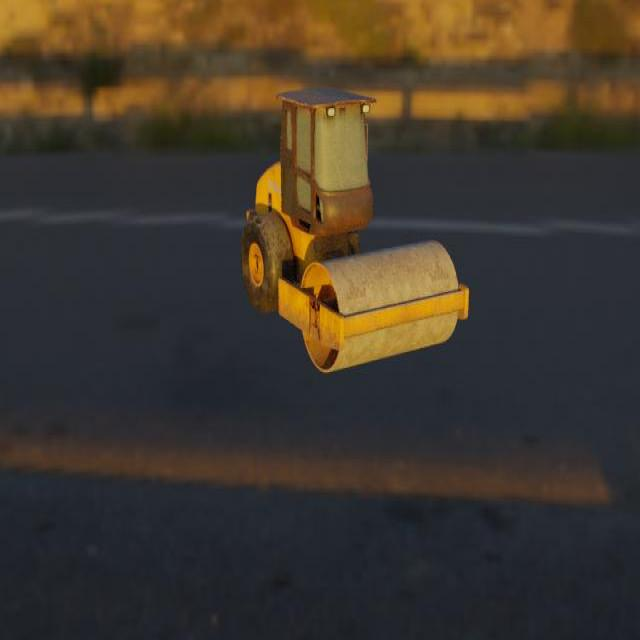Roller: (240, 87, 469, 372)
